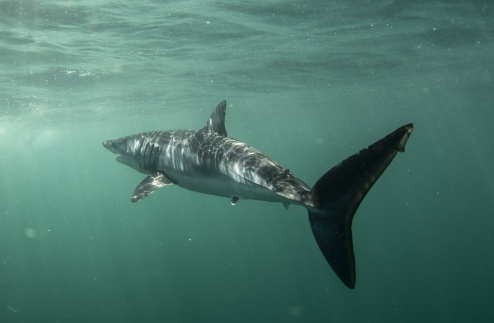Mako: (89, 93, 423, 296)
